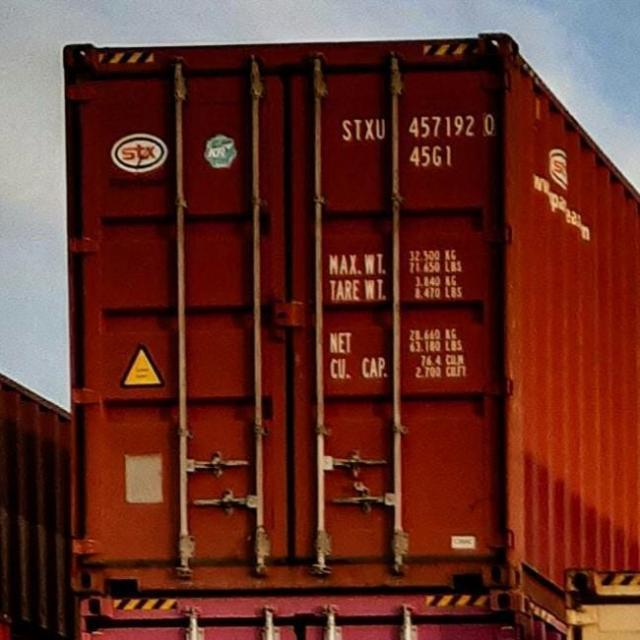ISO: (410, 144, 453, 170)
container_number: (348, 112, 496, 140)
